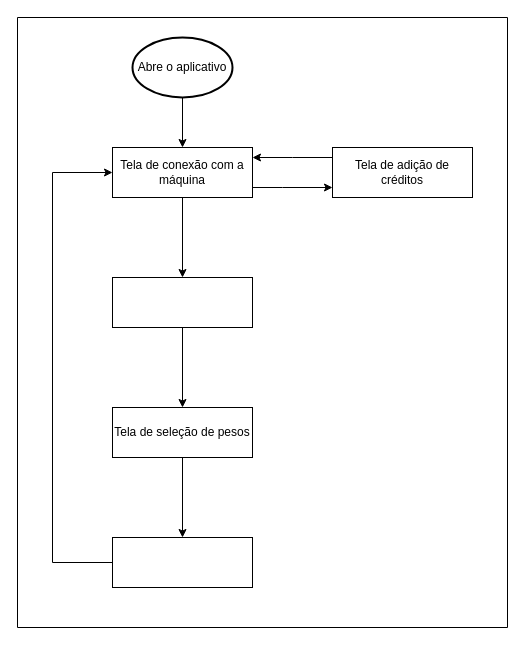
This 525x645 diagram has some shape labels left out. Here are the shapes that lost their labels. From the top down, the box of each, then its label:
(112, 276, 252, 328): Tela de seleção de produtos
(112, 536, 252, 588): Tela de confirmação de compra
